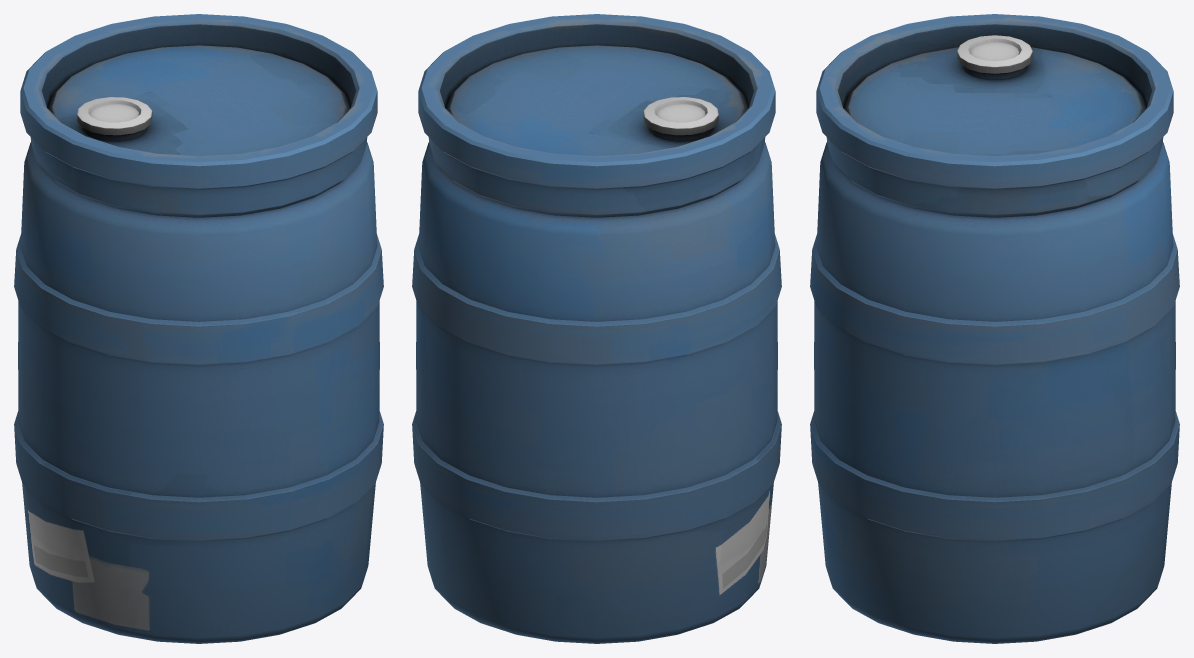
The model's file is water_barrel_large.glb.
3 views of the same model, side by side, from view 1: azimuth 30°, elevation 25°; view 2: azimuth 150°, elevation 25°; view 3: azimuth 270°, elevation 25° (orthographic).
Parts seen in each view (by area): view 1: water_barrel_large; view 2: water_barrel_large; view 3: water_barrel_large.
Boxes of the visible parts, bbox=[...] form: water_barrel_large: bbox=[14, 14, 383, 643]; water_barrel_large: bbox=[412, 14, 781, 643]; water_barrel_large: bbox=[810, 14, 1179, 643].
Bounding box in the file's own units: 1.46 × 2.13 × 1.46.
Materials: 1 (1 with a texture image).
